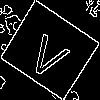V: (24, 25, 76, 83)
